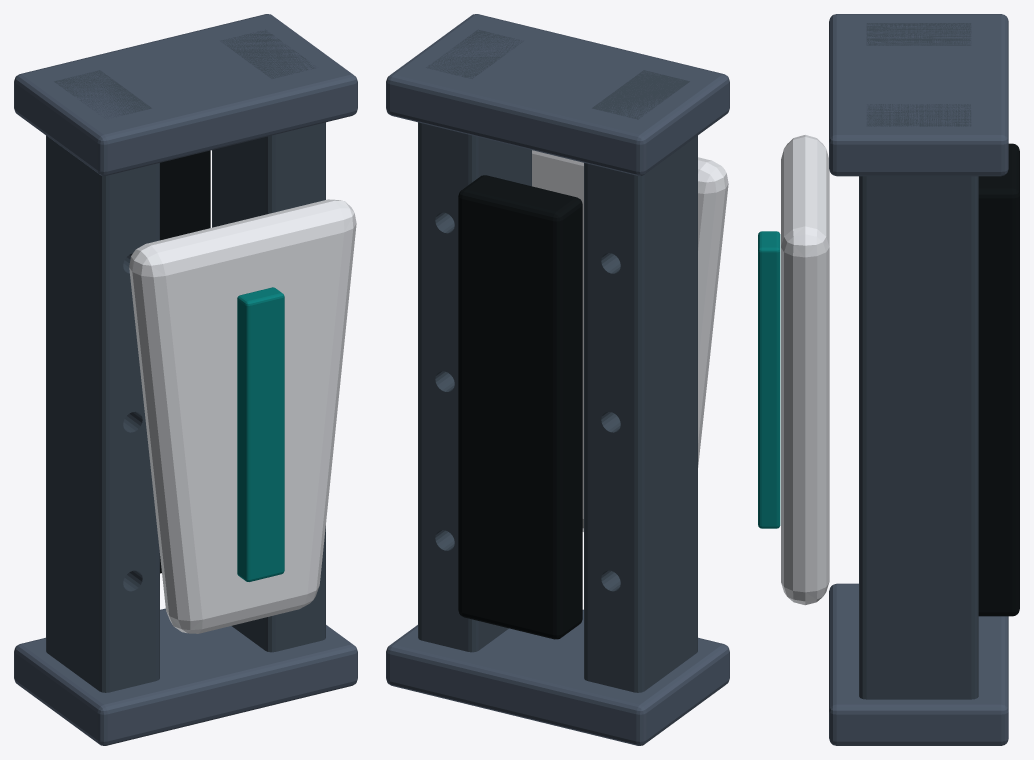
The model's file is modular_thigh_frame.obj.
3 views of the same model, side by side, from view 1: azimuth 30°, elevation 25°; view 2: azimuth 150°, elevation 25°; view 3: azimuth 270°, elevation 25° (orthographic).
Visible parts, largest first — view 1: modular_thigh_frame; view 2: modular_thigh_frame; view 3: modular_thigh_frame.
Boxes of the visible parts, <box> form: modular_thigh_frame: <box>14,14,357,745</box>; modular_thigh_frame: <box>386,14,729,745</box>; modular_thigh_frame: <box>758,14,1019,745</box>.
Size of the model in its own units: 0.08 by 0.18 by 0.07.
